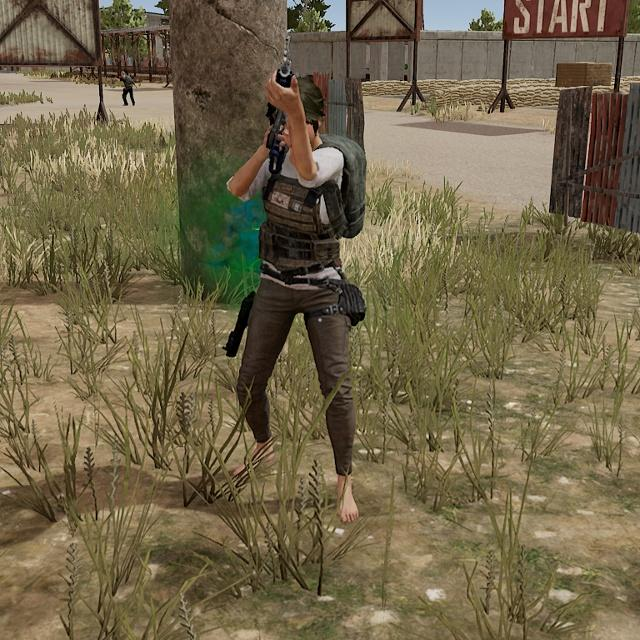head: (266, 70, 336, 150), (119, 69, 128, 78)
people: (222, 68, 375, 530), (116, 65, 141, 109)
